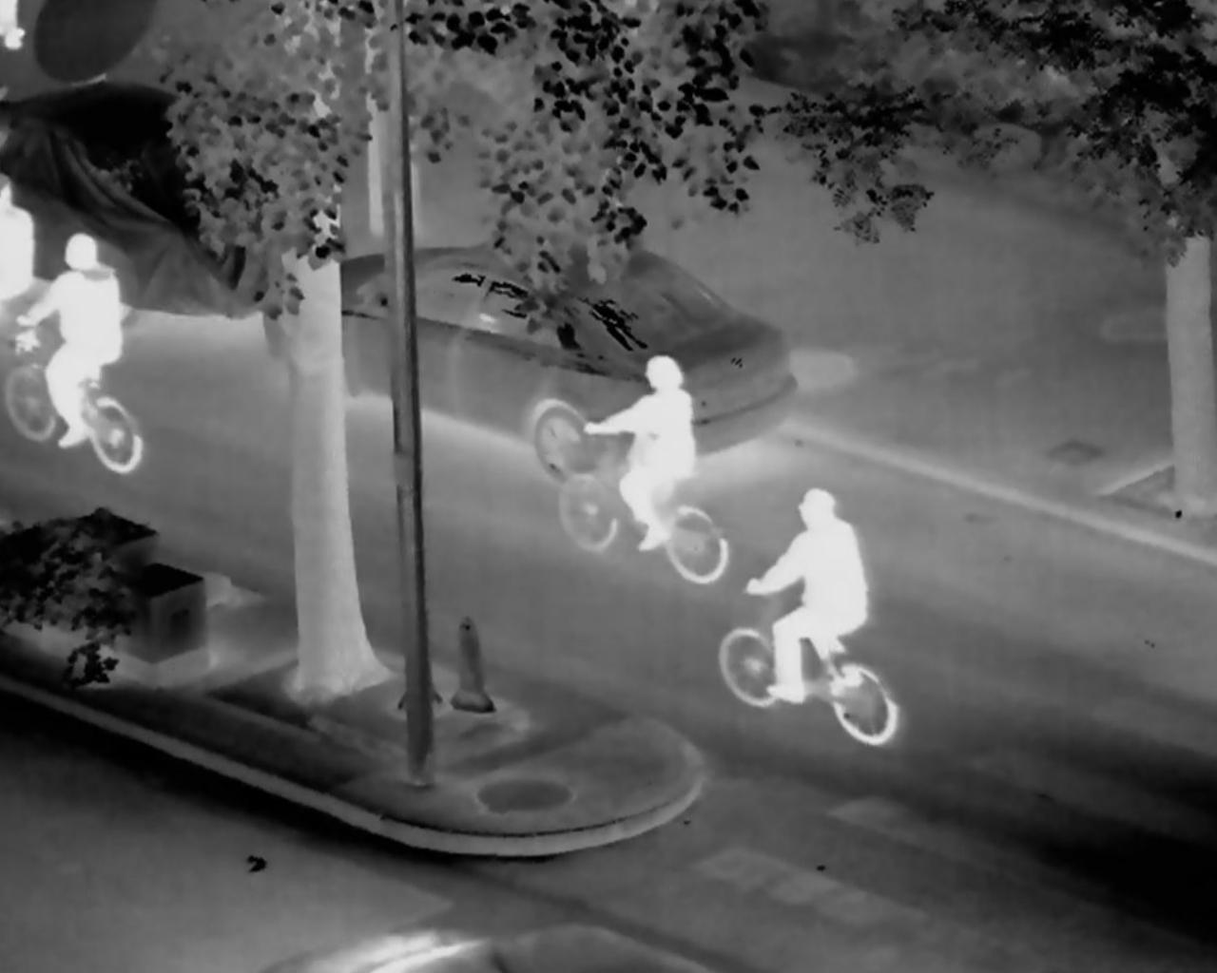person: (746, 490, 867, 705), (18, 235, 123, 449), (584, 354, 694, 552)
